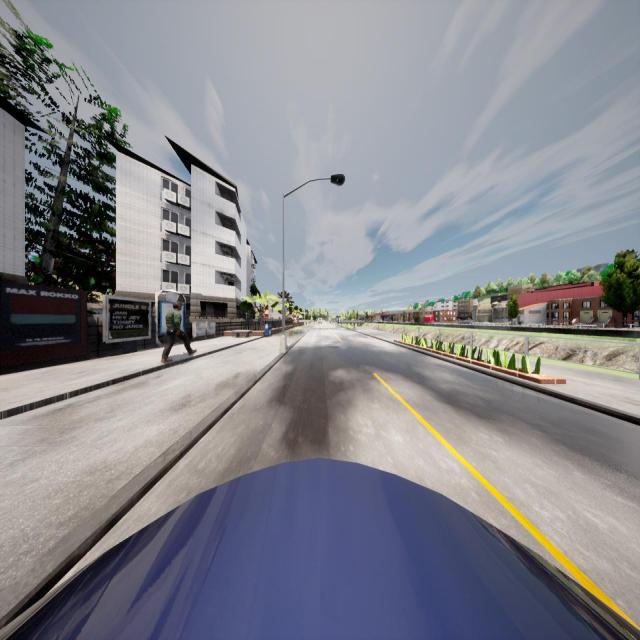Pedestrian: (160, 301, 198, 364)
Vehicle: (0, 457, 640, 640), (318, 318, 322, 325)
